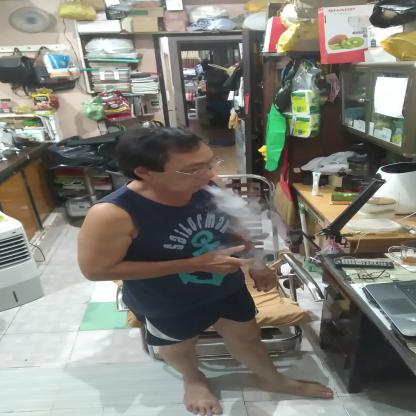person: (74, 124, 312, 415)
smoke: (205, 187, 253, 218)
